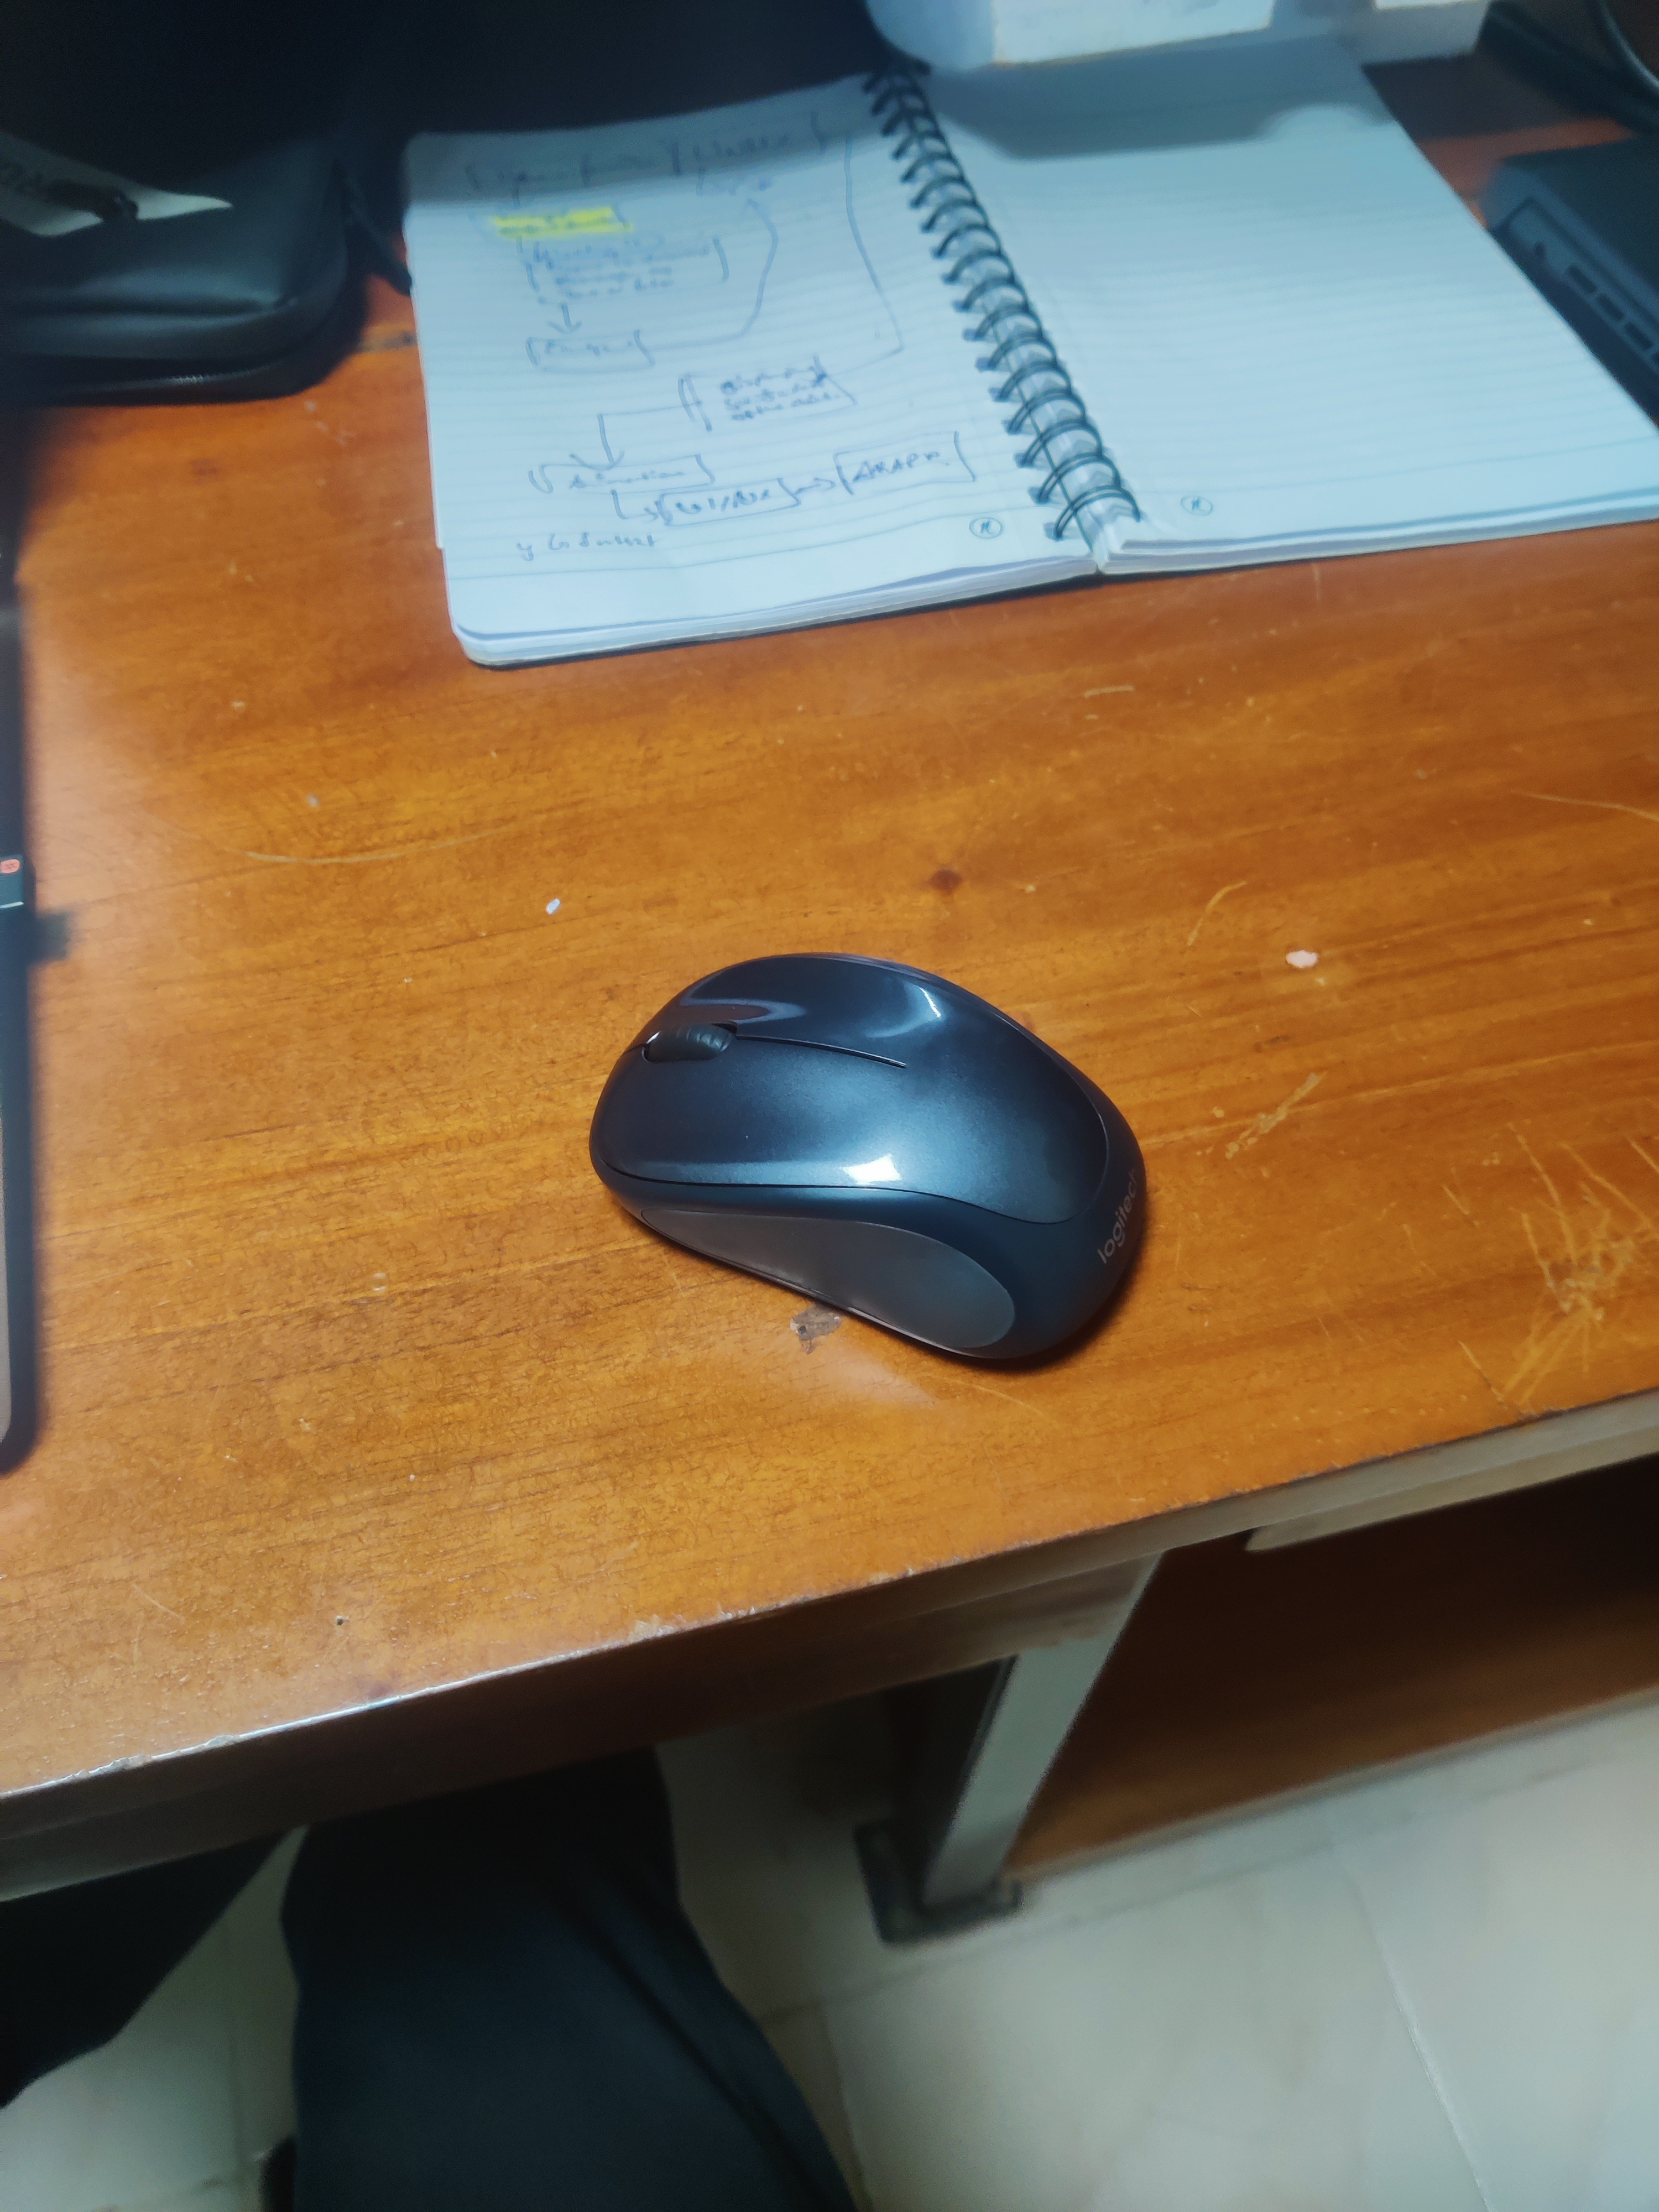logitechMouse: (535, 928, 1218, 1395)
